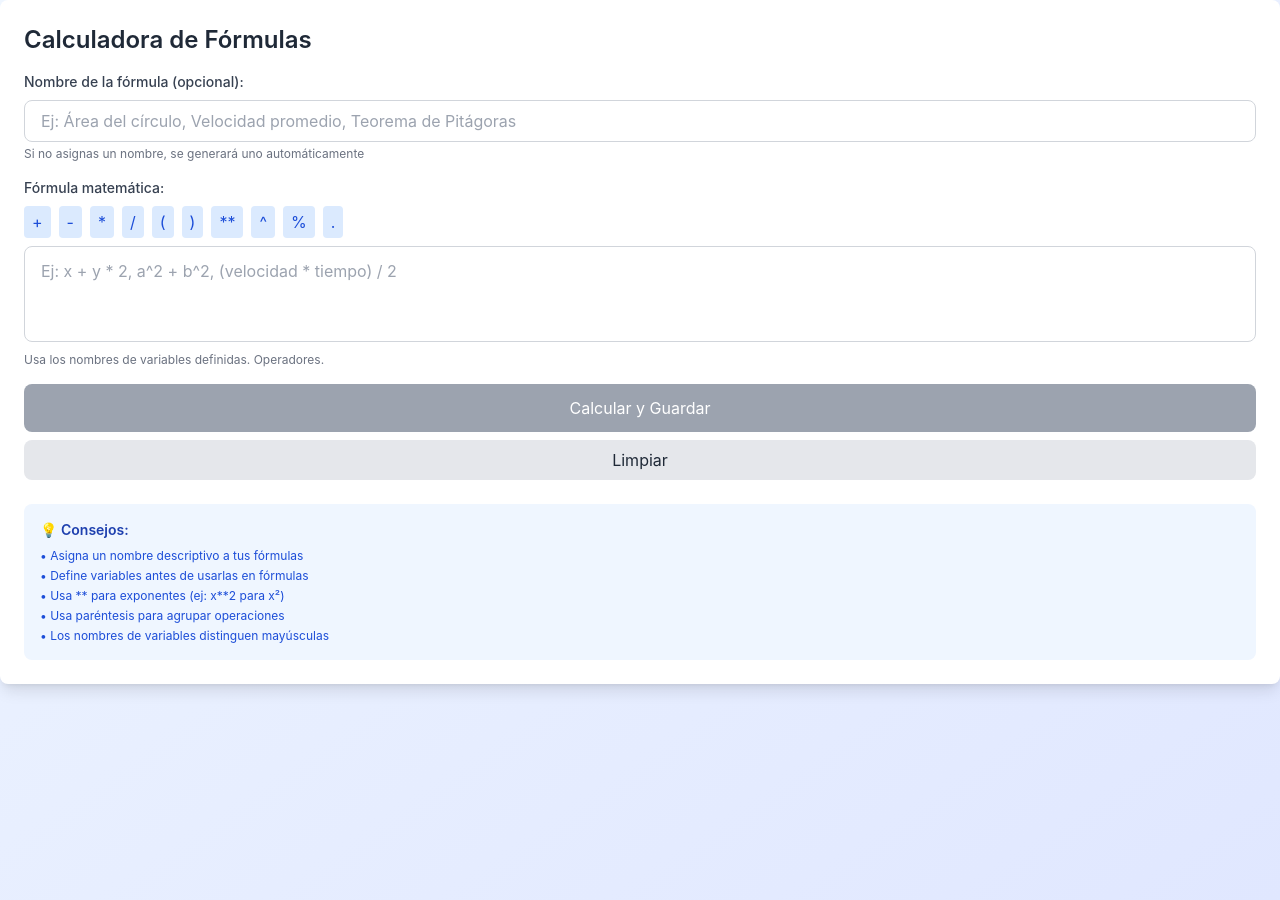
Scenario: muestra el resultado de una fórmula válida
Type "x + y" into the text box with placeholder "Ej: x + y * 2, a^2 + b^2, (velocidad * tiempo) / 2".
click(640, 294); type("x + y")  # box [24,246,1256,342]
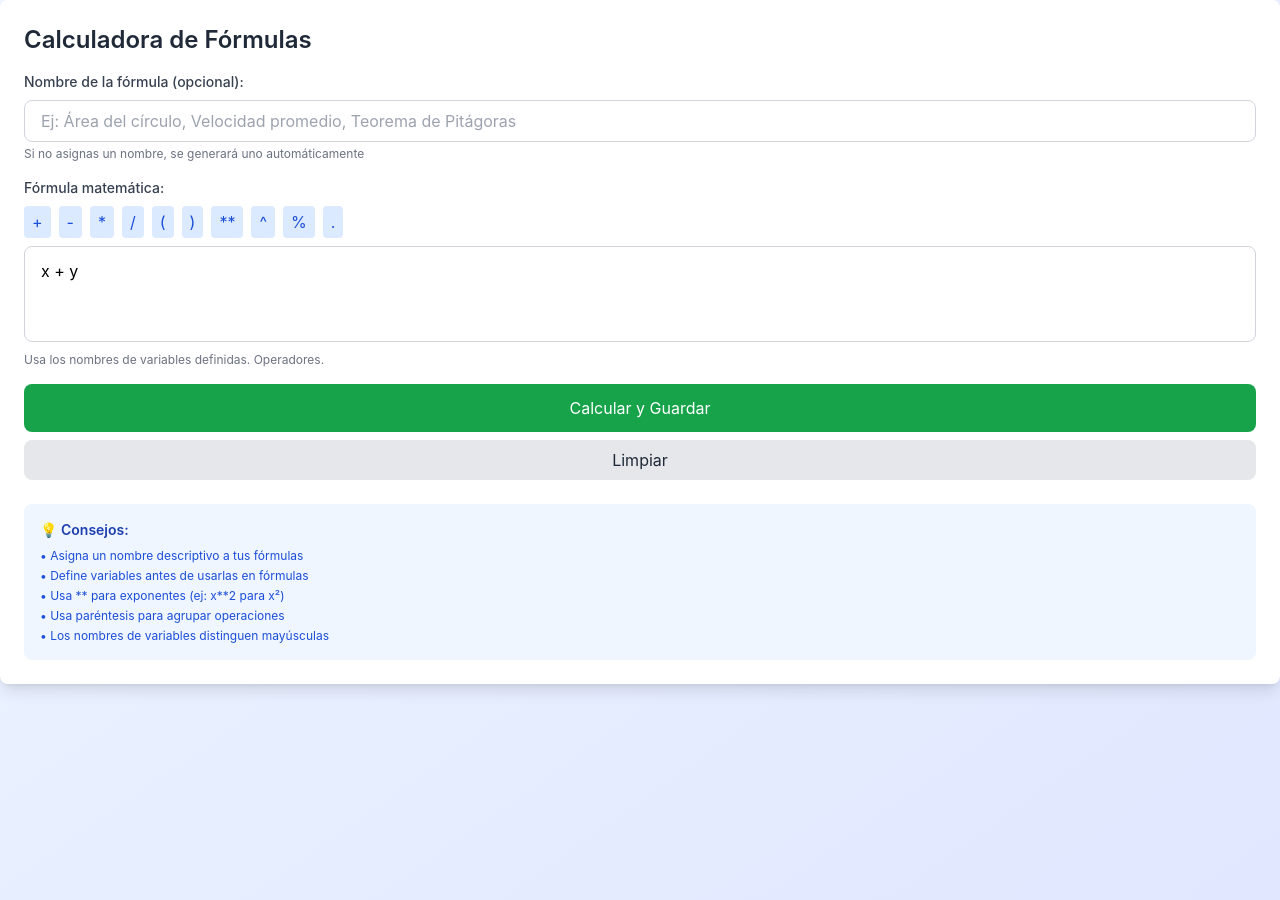
Click the button "Calcular y Guardar".
click(640, 408)  # box [24,384,1256,432]
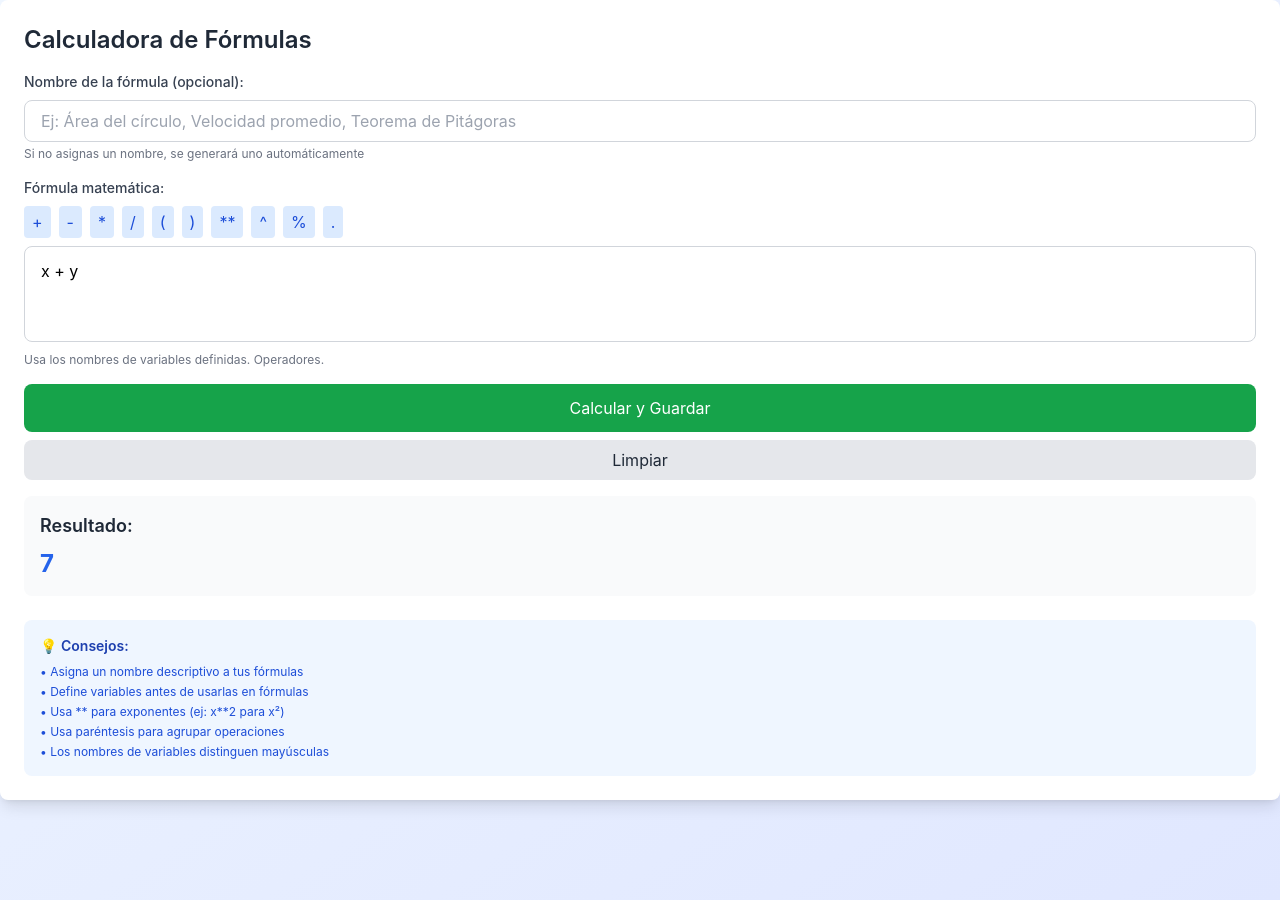
Check: the heading "Resultado:" is shown, box [40,515,133,536]
Check: the text "7" is shown, box [40,549,54,578]
